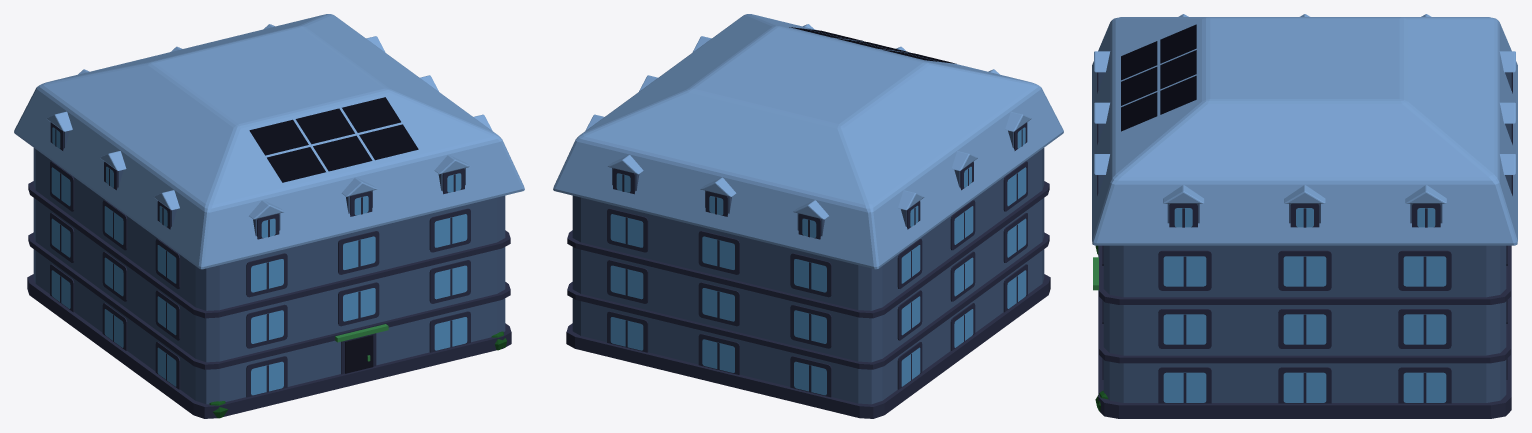
File: house-2x2-3f-mansard-b-solar.glb
3 views of the same model, side by side, from view 1: azimuth 30°, elevation 25°; view 2: azimuth 150°, elevation 25°; view 3: azimuth 270°, elevation 25° (orthographic). The views are drawn at different scales.
Parts seen in each view (by area): view 1: house-2x2-3f-mansard-b-solar; view 2: house-2x2-3f-mansard-b-solar; view 3: house-2x2-3f-mansard-b-solar.
Part boxes in pixels (<box>): house-2x2-3f-mansard-b-solar: <box>14,14,524,418</box>; house-2x2-3f-mansard-b-solar: <box>553,14,1063,418</box>; house-2x2-3f-mansard-b-solar: <box>1092,14,1517,418</box>.
Size of the model in its own units: 1.99 by 1.41 by 1.99.
Materials: 1 (1 with a texture image).
